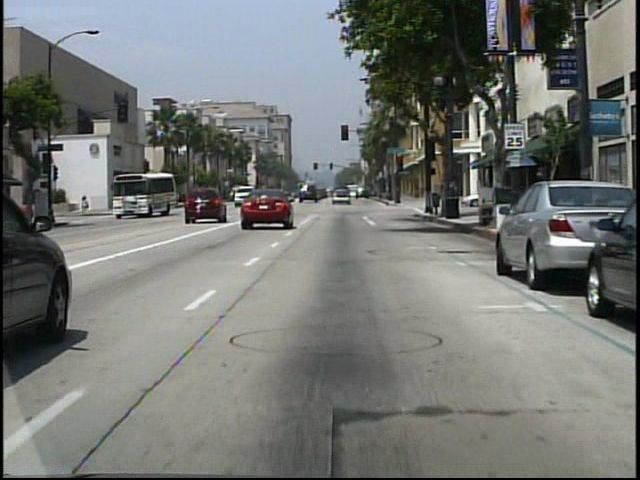person: (82, 194, 91, 215)
